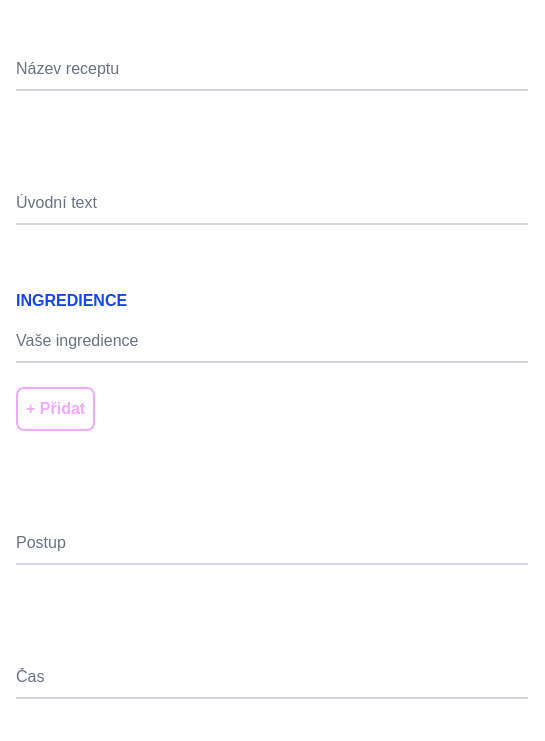
Test: AddRecipeForm › does not submit the form if nan value is in duration
Type "Pizza" into the field with placeholder "Název receptu" at (272, 70), box [16, 49, 528, 91]
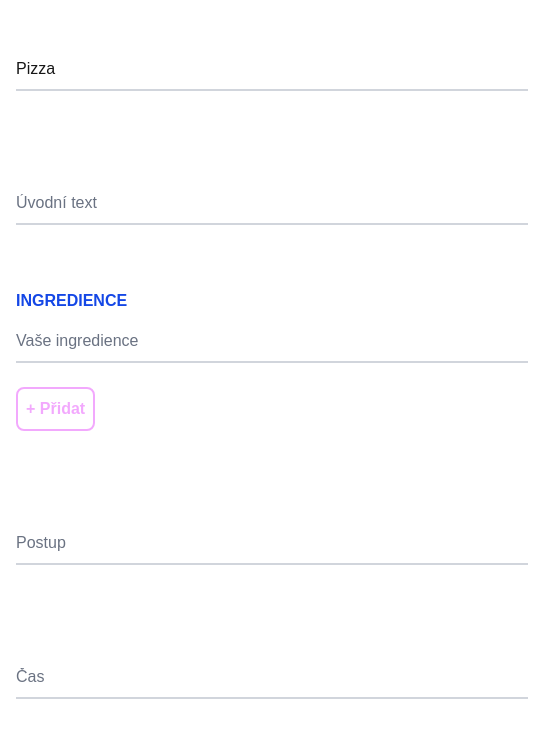
Type "Cheesy" into the field with placeholder "Úvodní text" at (272, 204), box [16, 183, 528, 225]
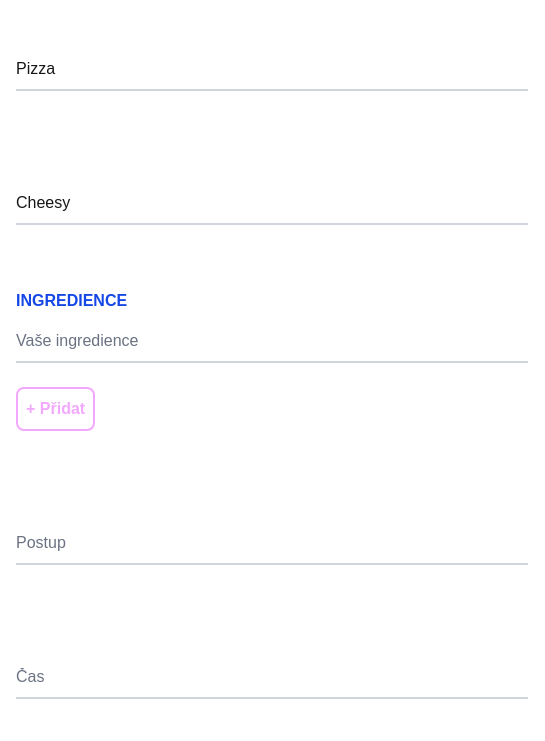
Type "Put in the oven" into the field with placeholder "Postup" at (272, 544), box [16, 523, 528, 565]
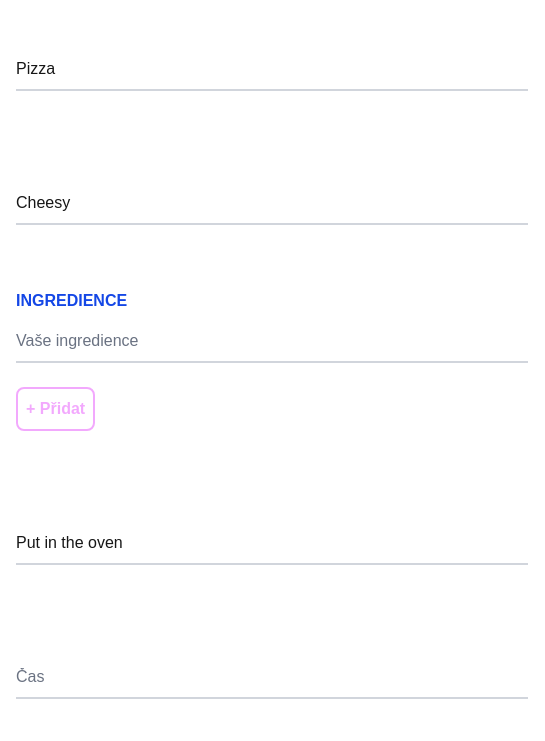
Type "Cheese" into the field with placeholder "Vaše ingredience" at (272, 342), box [16, 321, 528, 363]
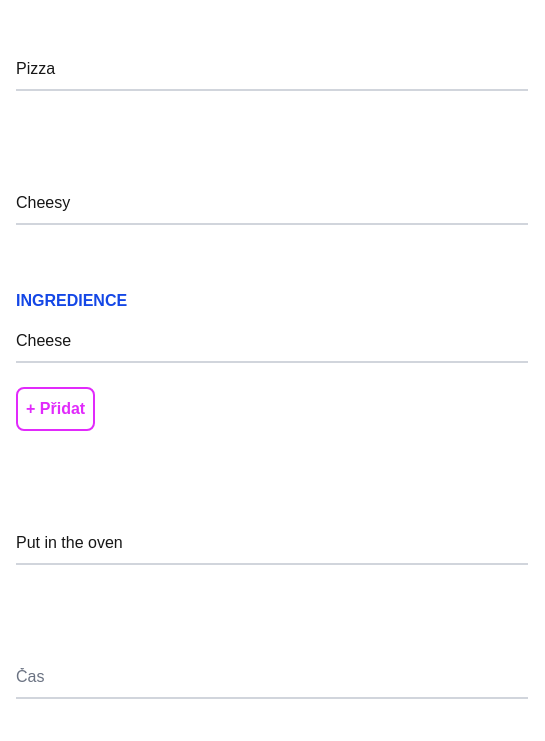
Type "not a number" into the number field with placeholder "Čas" at (272, 678), box [16, 657, 528, 699]
(page scrolled)
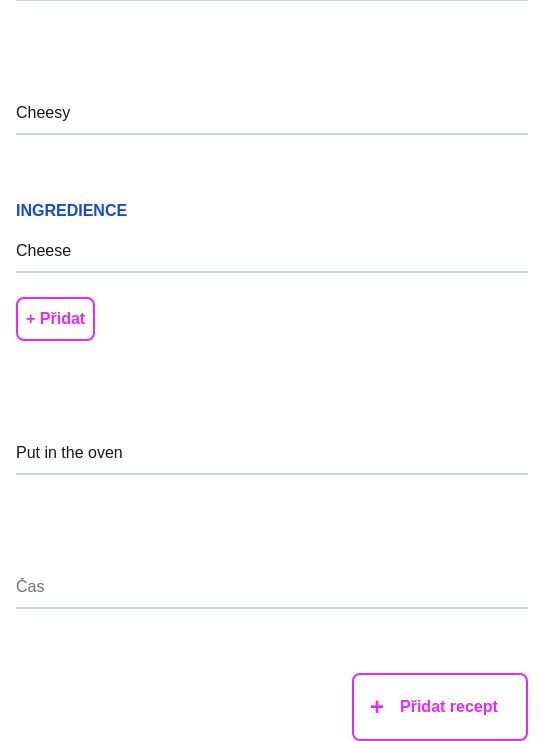
Click the button with test id "submit-button" at (440, 707), box [352, 673, 528, 740]
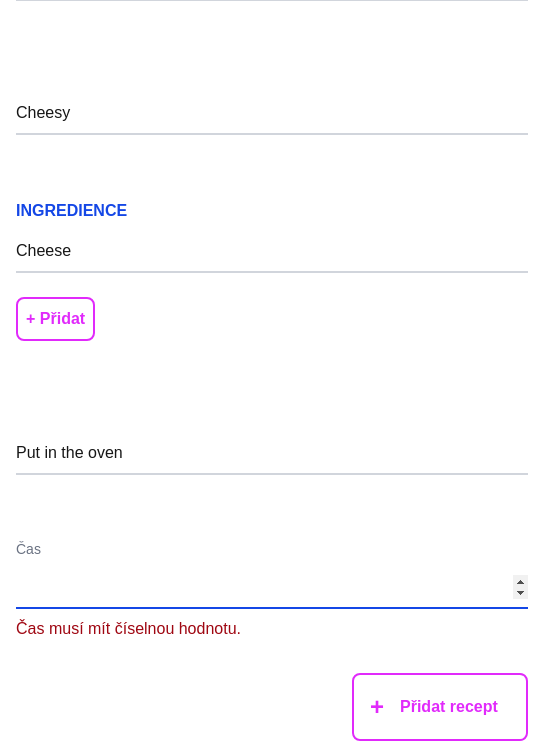
Expected: the text "Čas musí mít číselnou hodnotu." is shown, [16, 617, 241, 641]
